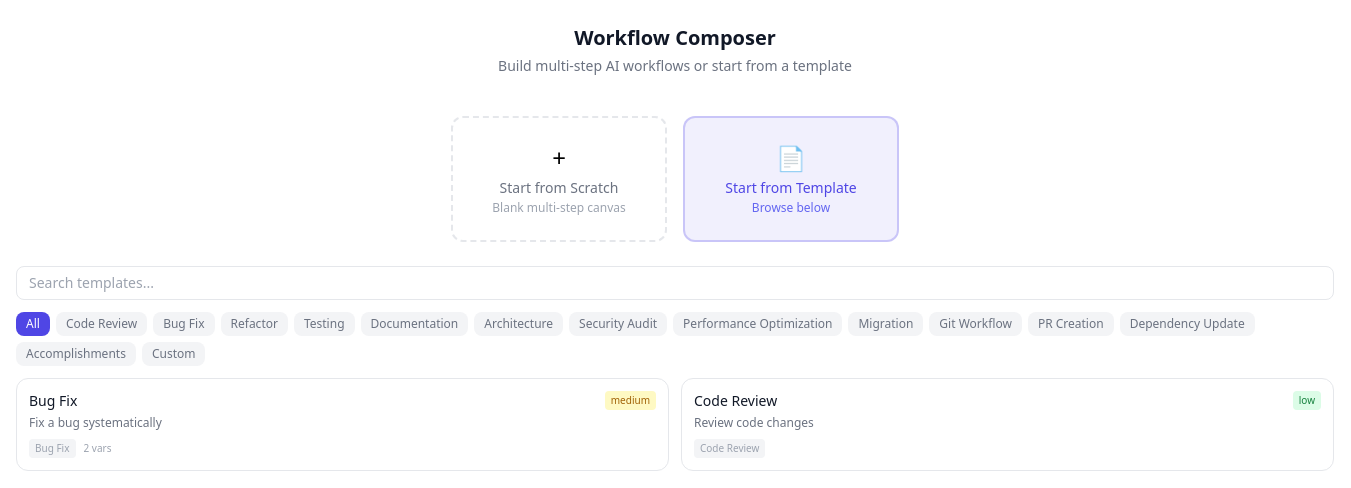
Test case: TemplateLauncher › enables Run Now when all variables are filled
Expected: the text "Fix a bug systematically" is shown, x1=29 y1=414 x2=162 y2=431
Click the button "Fix a bug systematically" at (53, 400), box x1=16 y1=378 x2=669 y2=471
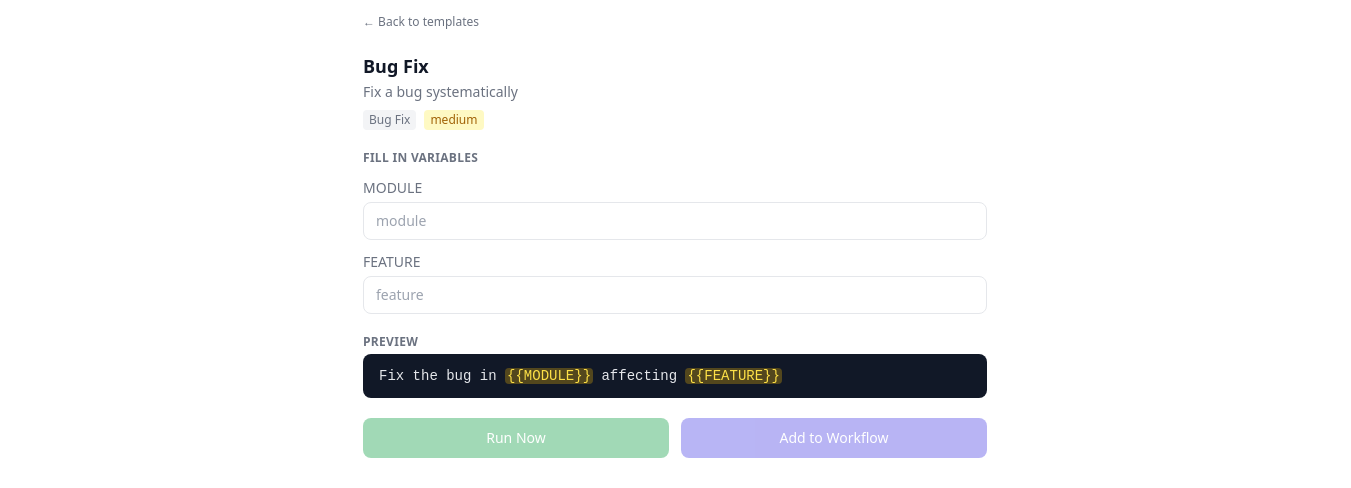
Expected: the field with placeholder "module" is shown
Type "auth" into the field with placeholder "module" at (675, 221), box x1=363 y1=202 x2=987 y2=240
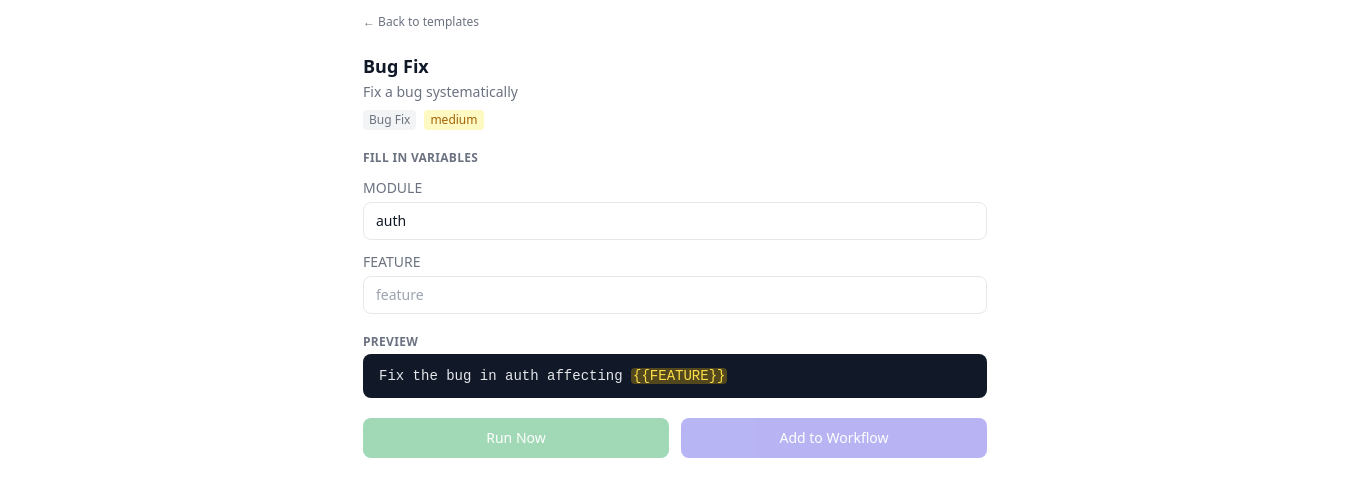
Type "login" into the field with placeholder "feature" at (675, 295), box x1=363 y1=276 x2=987 y2=314
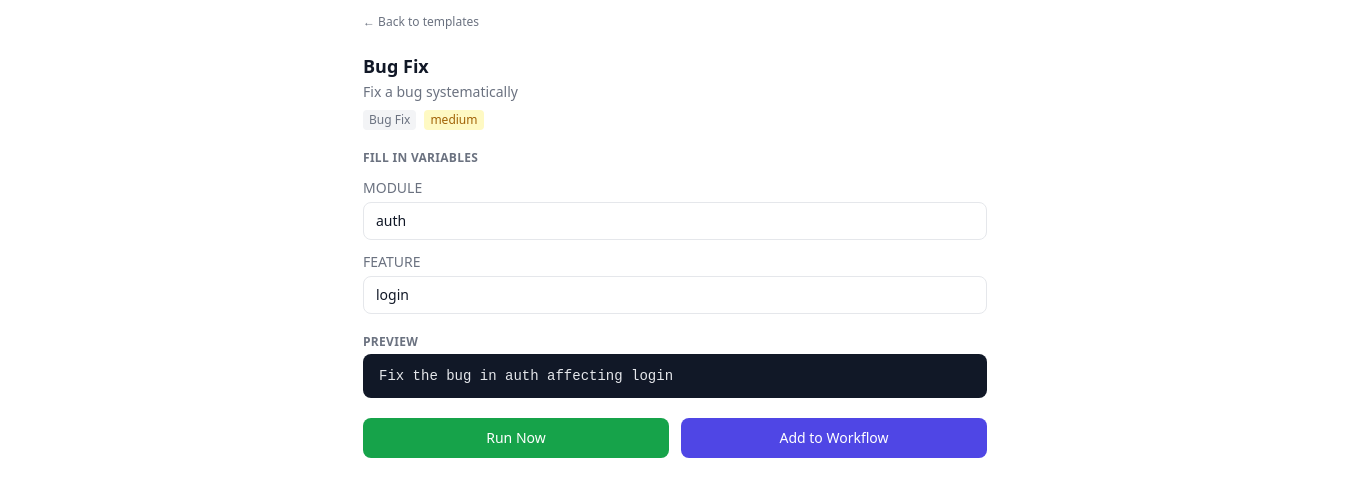
Expected: the button "Run Now" is enabled, x1=363 y1=418 x2=669 y2=458
